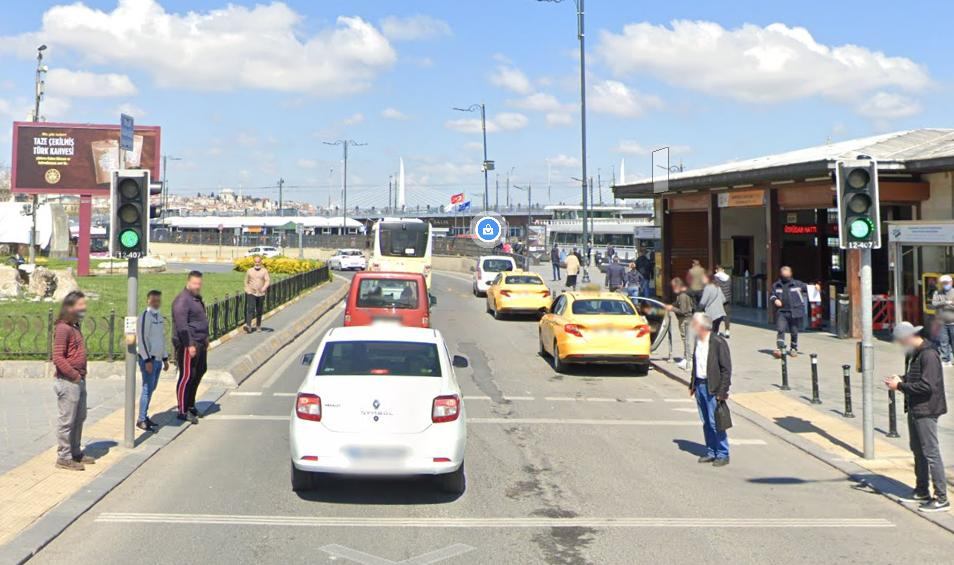greenlight: (839, 161, 881, 239), (113, 171, 145, 248)
